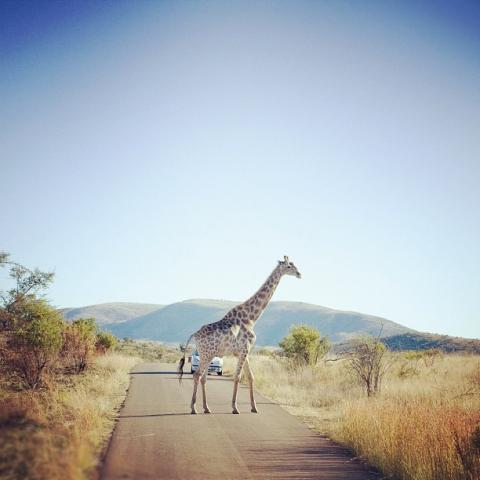car: (190, 348, 222, 375)
